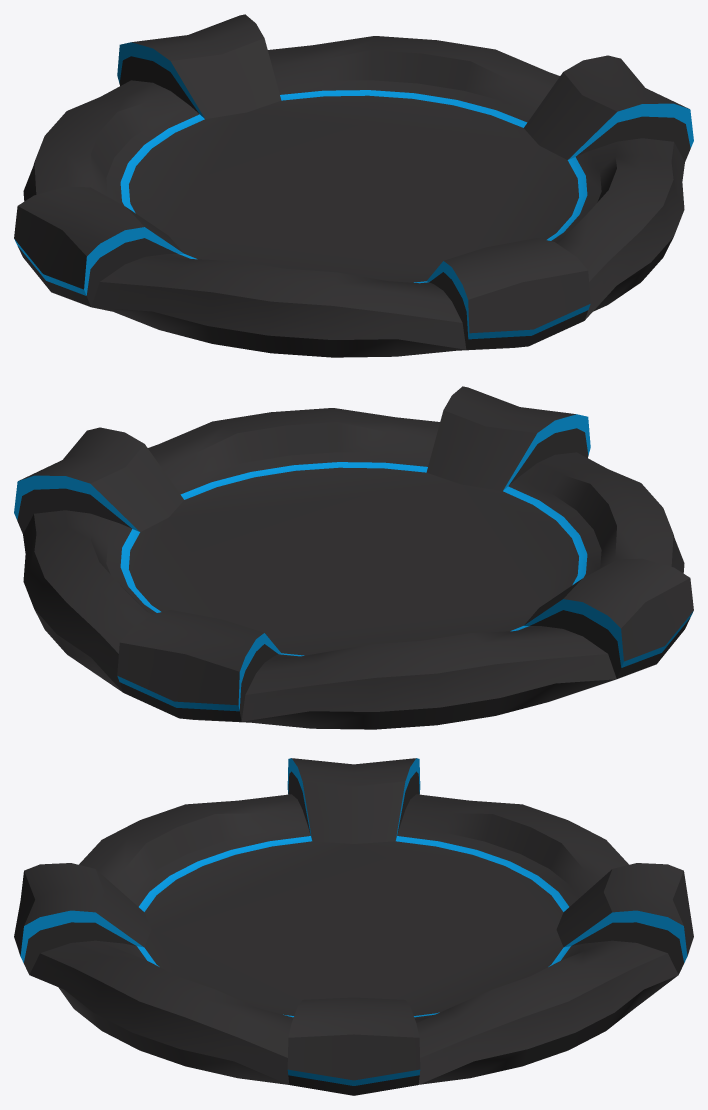
The model's file is Dance_pad.fbx.
The picture shows the model from 3 angles, top to bottom: view 1: azimuth 30°, elevation 25°; view 2: azimuth 150°, elevation 25°; view 3: azimuth 270°, elevation 25°; orthographic projection. The views are drawn at different scales.
Parts seen in each view (by area): view 1: Dance_Pad; view 2: Dance_Pad; view 3: Dance_Pad.
Boxes of the visible parts, left/top/right/bottom form: Dance_Pad: left=14, top=14, right=693, bottom=357; Dance_Pad: left=14, top=386, right=693, bottom=729; Dance_Pad: left=14, top=758, right=693, bottom=1095.
Size of the model in its own units: 892 by 174 by 892.
